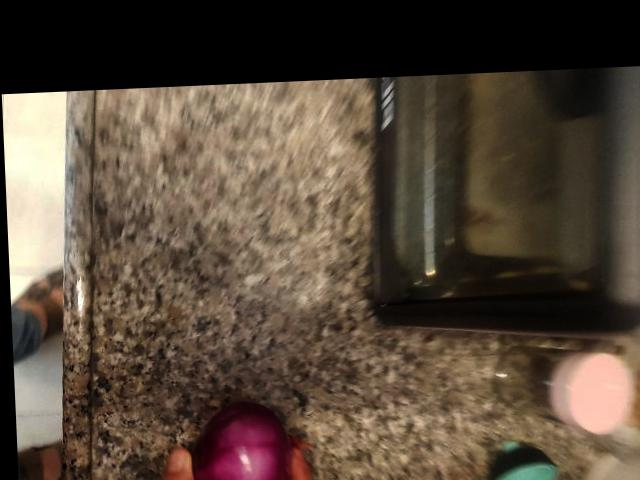onion: (203, 86, 328, 203)
